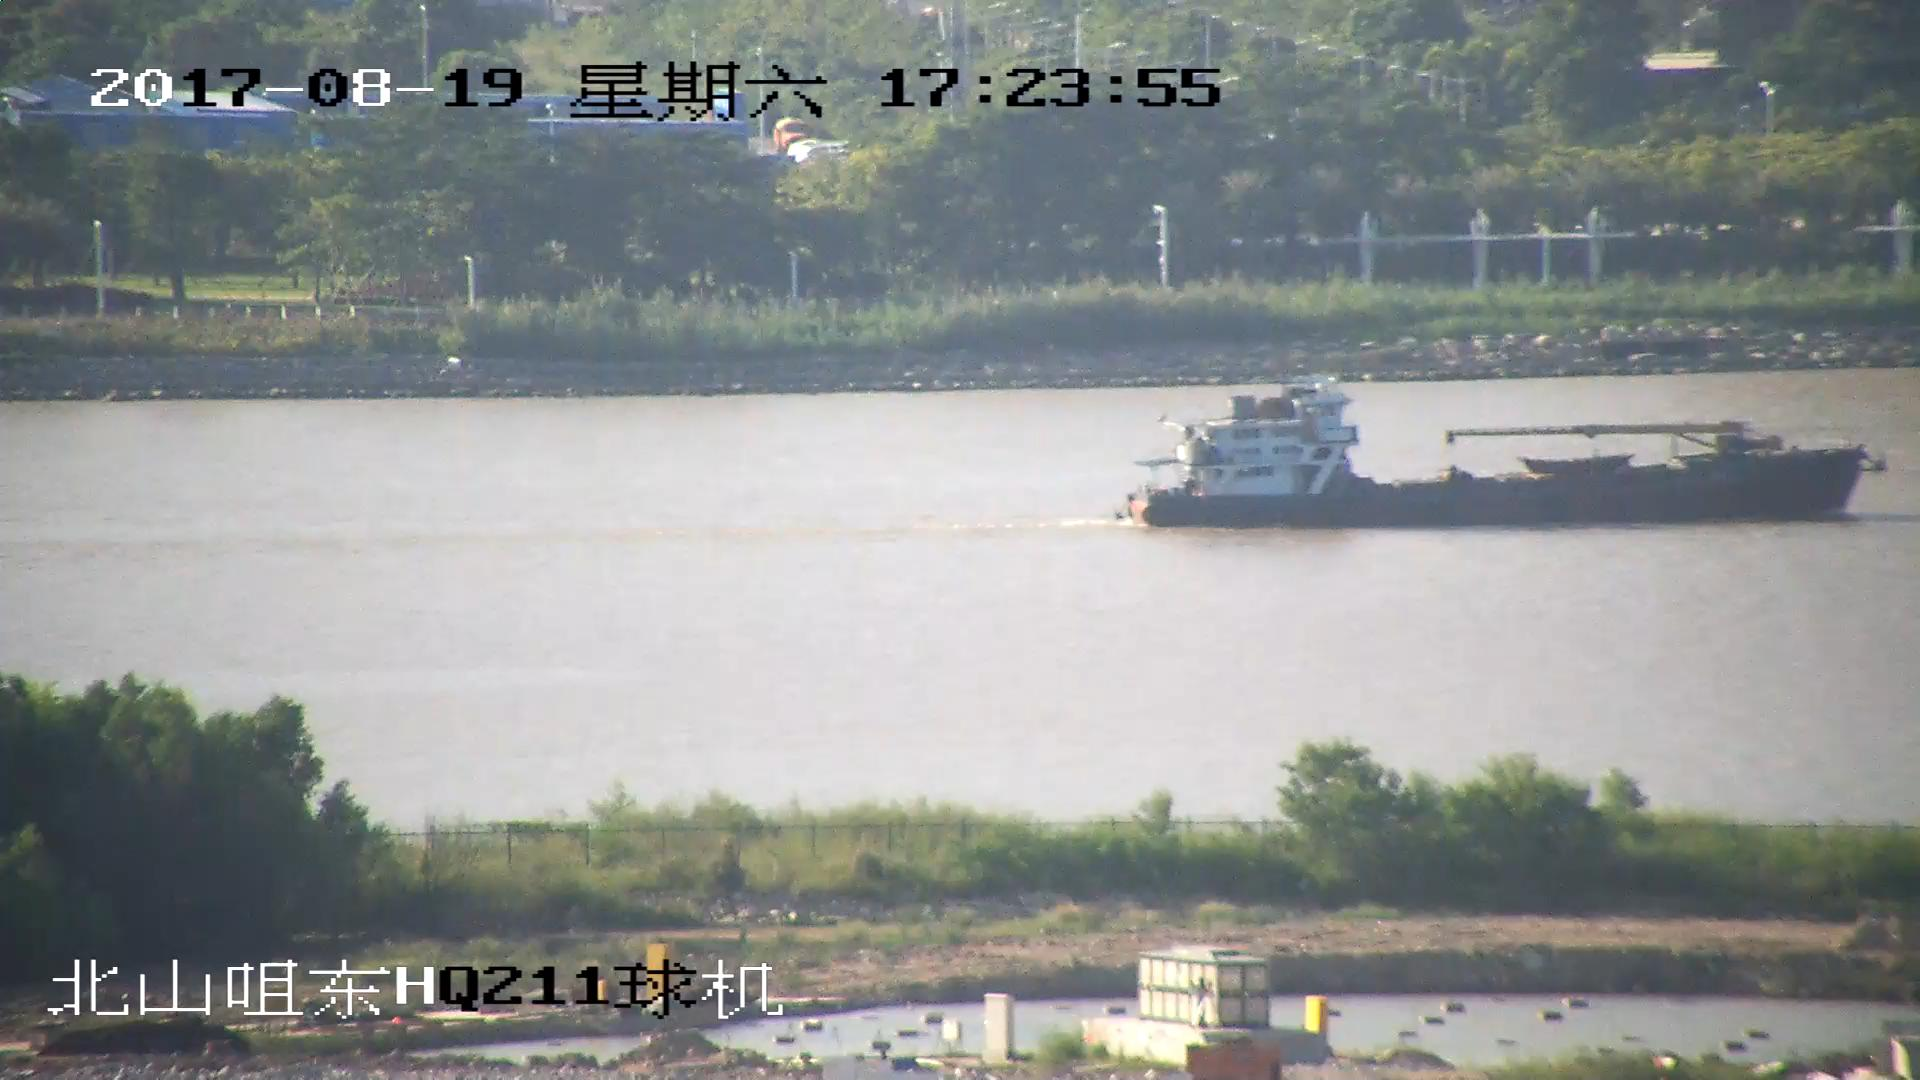bulk cargo carrier: (1118, 390, 1898, 529)
